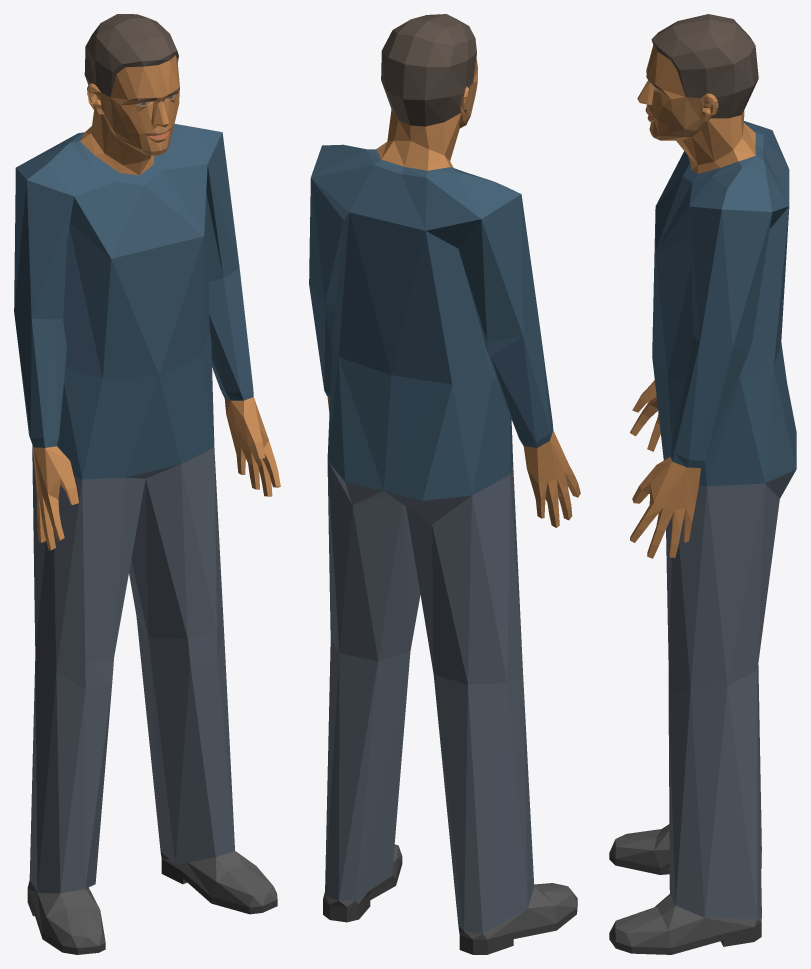
The model's file is human-male-1-standing.glb.
The picture shows the model from 3 angles, left to right: view 1: azimuth 30°, elevation 25°; view 2: azimuth 150°, elevation 25°; view 3: azimuth 270°, elevation 25°; orthographic projection.
Visible parts, largest first — view 1: human/male@1/standing; view 2: human/male@1/standing; view 3: human/male@1/standing.
Part boxes in pixels (x1,y1,x2,y2): human/male@1/standing: (14, 14, 280, 954); human/male@1/standing: (309, 14, 580, 954); human/male@1/standing: (609, 14, 796, 954).
Size of the model in its own units: 473 by 1781 by 342.
